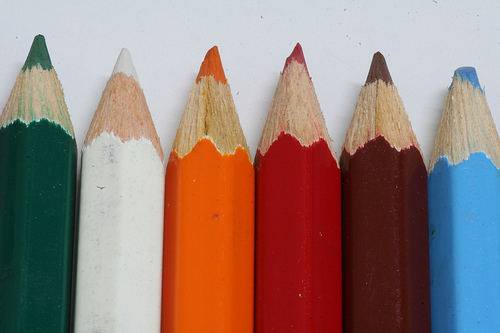pen_tip: (340, 27, 427, 187), (261, 28, 347, 182), (168, 27, 256, 175), (419, 31, 500, 186), (1, 27, 80, 156)
